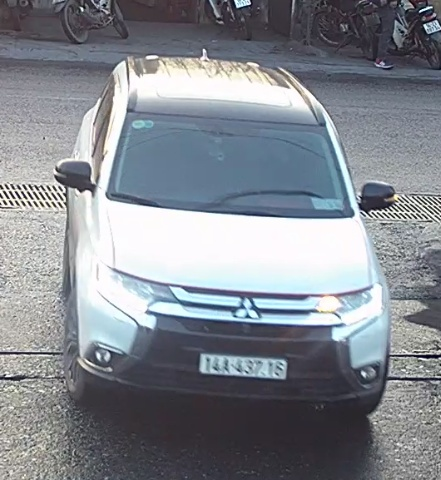vehicle plate: (198, 351, 291, 382)
